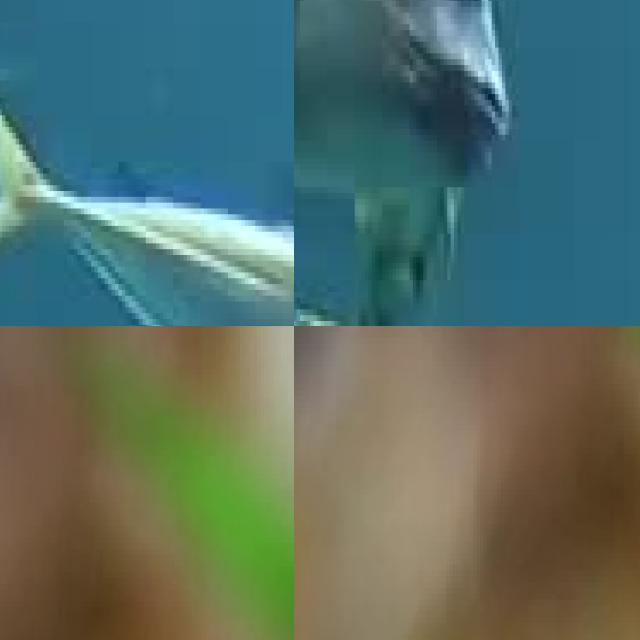fish: (0, 0, 294, 326)
